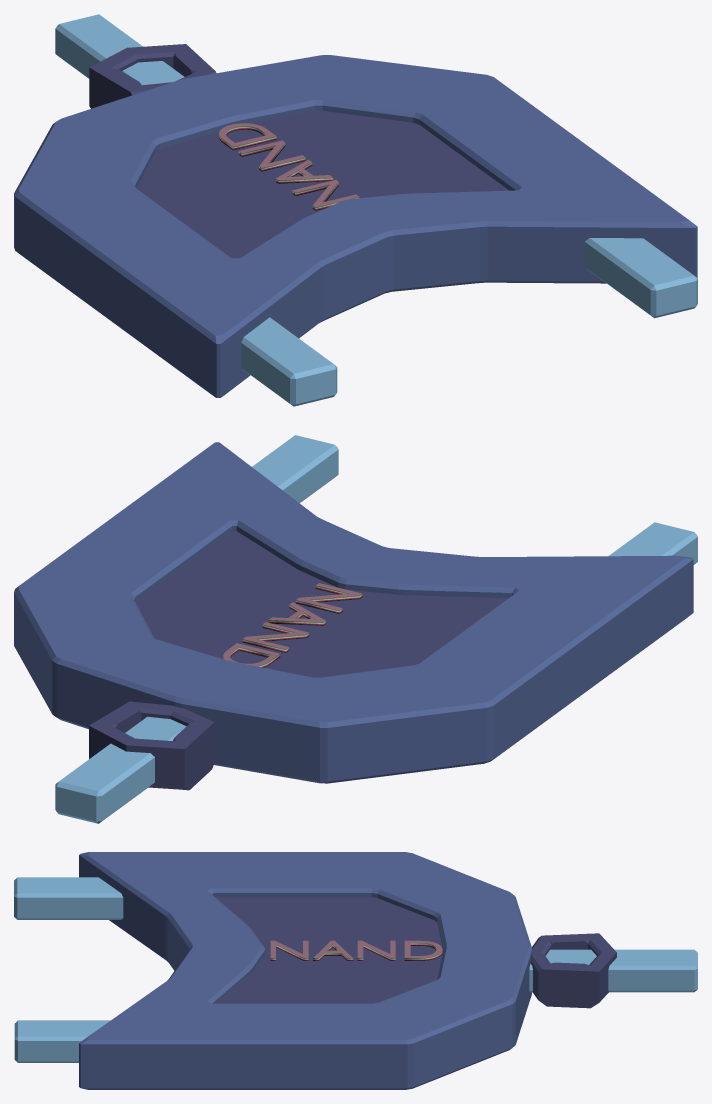
Rendered from Assets_Gates.fbx_NAND.fbx.
The picture shows the model from 3 angles, top to bottom: view 1: azimuth 30°, elevation 25°; view 2: azimuth 150°, elevation 25°; view 3: azimuth 270°, elevation 25°; orthographic projection. The views are drawn at different scales.
Parts seen in each view (by area): view 1: AND.001, N, Text.003; view 2: AND.001, N, Text.003; view 3: AND.001, N, Text.003.
Part boxes in pixels (left/top/right/bottom): AND.001: left=14, top=14, right=697, bottom=406; N: left=89, top=44, right=216, bottom=108; Text.003: left=219, top=123, right=359, bottom=210; AND.001: left=14, top=435, right=697, bottom=823; N: left=89, top=701, right=216, bottom=790; Text.003: left=223, top=583, right=362, bottom=667; AND.001: left=14, top=852, right=697, bottom=1089; N: left=530, top=933, right=616, bottom=1008; Text.003: left=270, top=940, right=442, bottom=960.
Size of the model in its own units: 264 by 32.28 by 400.
